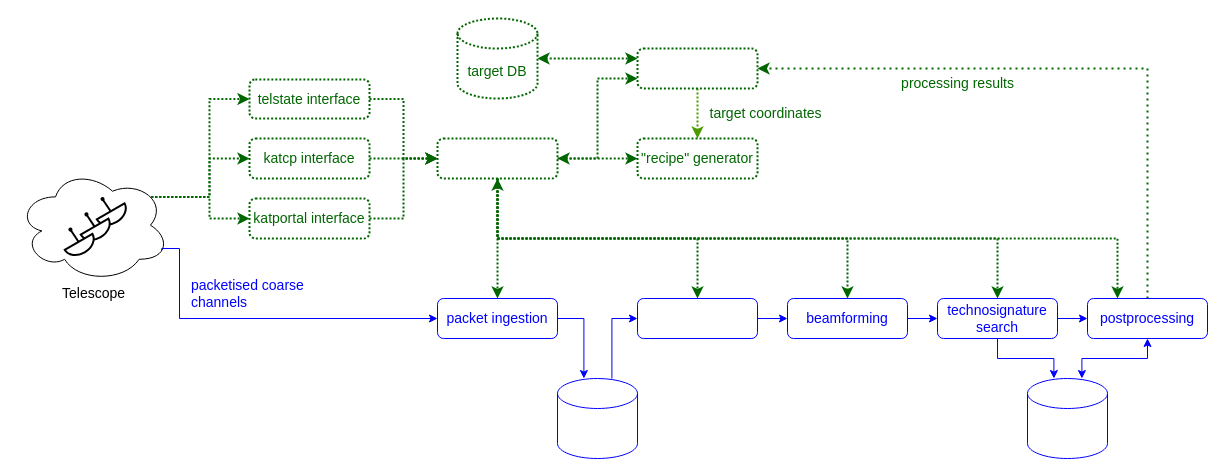
Image size: 1225x476. Some labels were removed from this diagram. The centre of each missing label's shape, as x and y in pixels:
"coordinator" belongs at point 497,158.
"NVMe" belongs at point 597,418.
"Search Products" belongs at point 1067,418.
"target selector" belongs at point 697,68.
"upchannelization" belongs at point 697,318.
